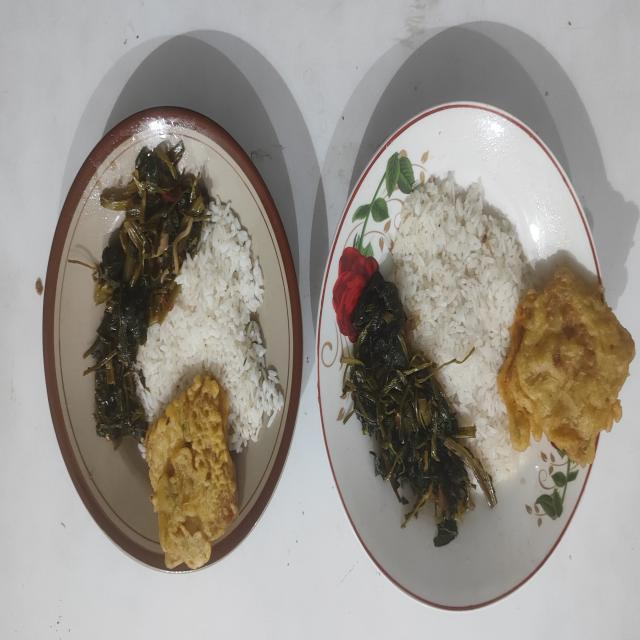nasi_putih: (388, 173, 528, 480), (135, 198, 284, 453)
tumis_kangkung: (342, 270, 497, 546), (84, 140, 210, 449)
